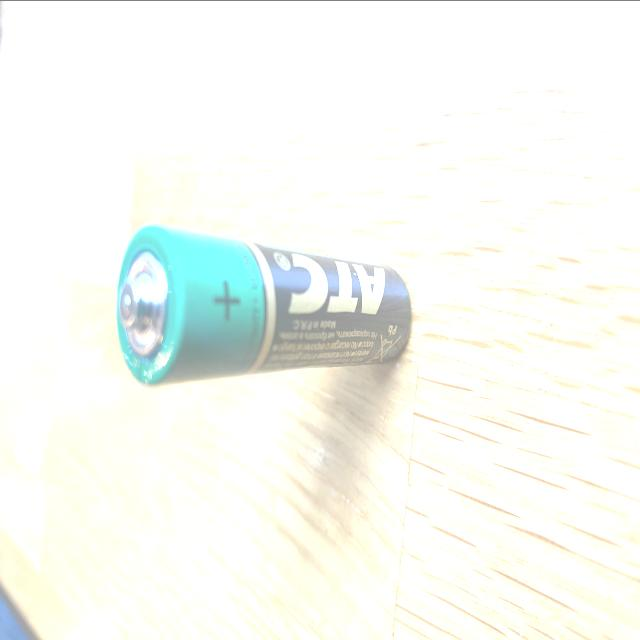AA: (111, 216, 417, 391)
